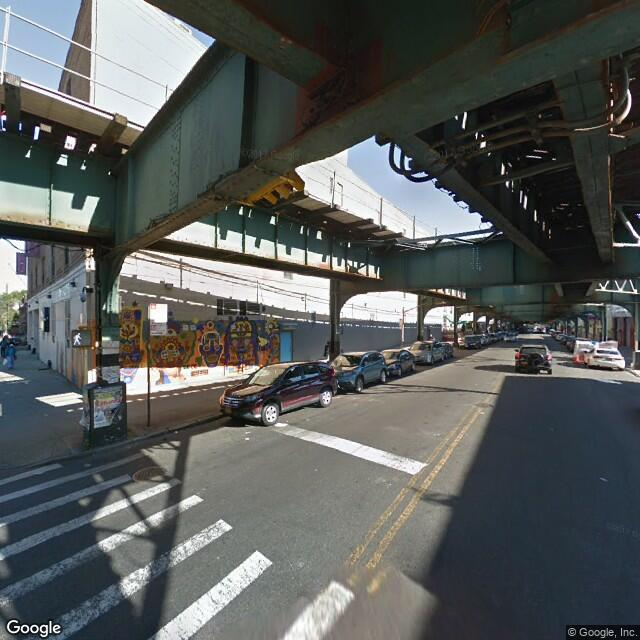litter: (248, 440, 252, 443), (173, 430, 175, 432)
